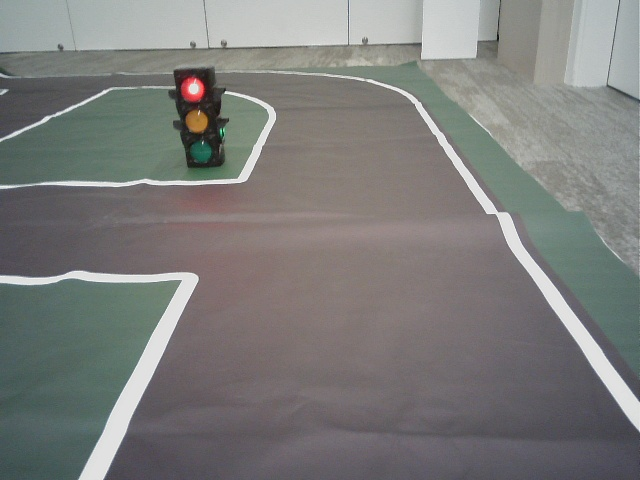red: (177, 75, 218, 164)
